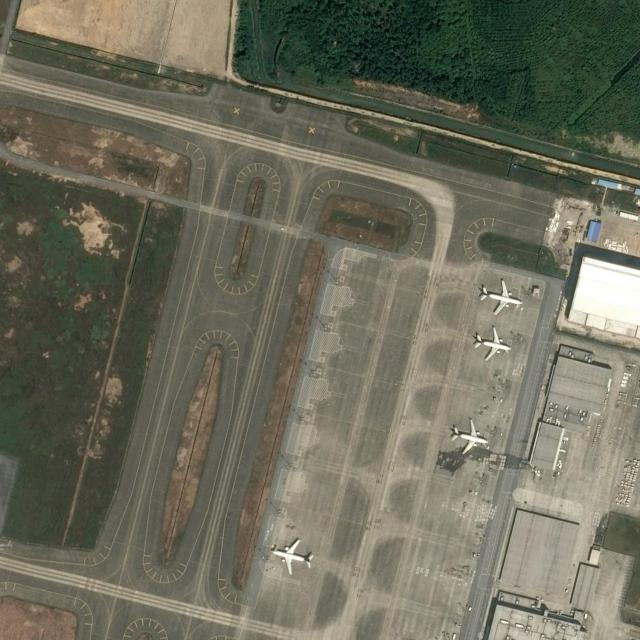Aircraft: (268, 536, 316, 574), (476, 279, 523, 315), (472, 326, 512, 361), (449, 418, 487, 454)
